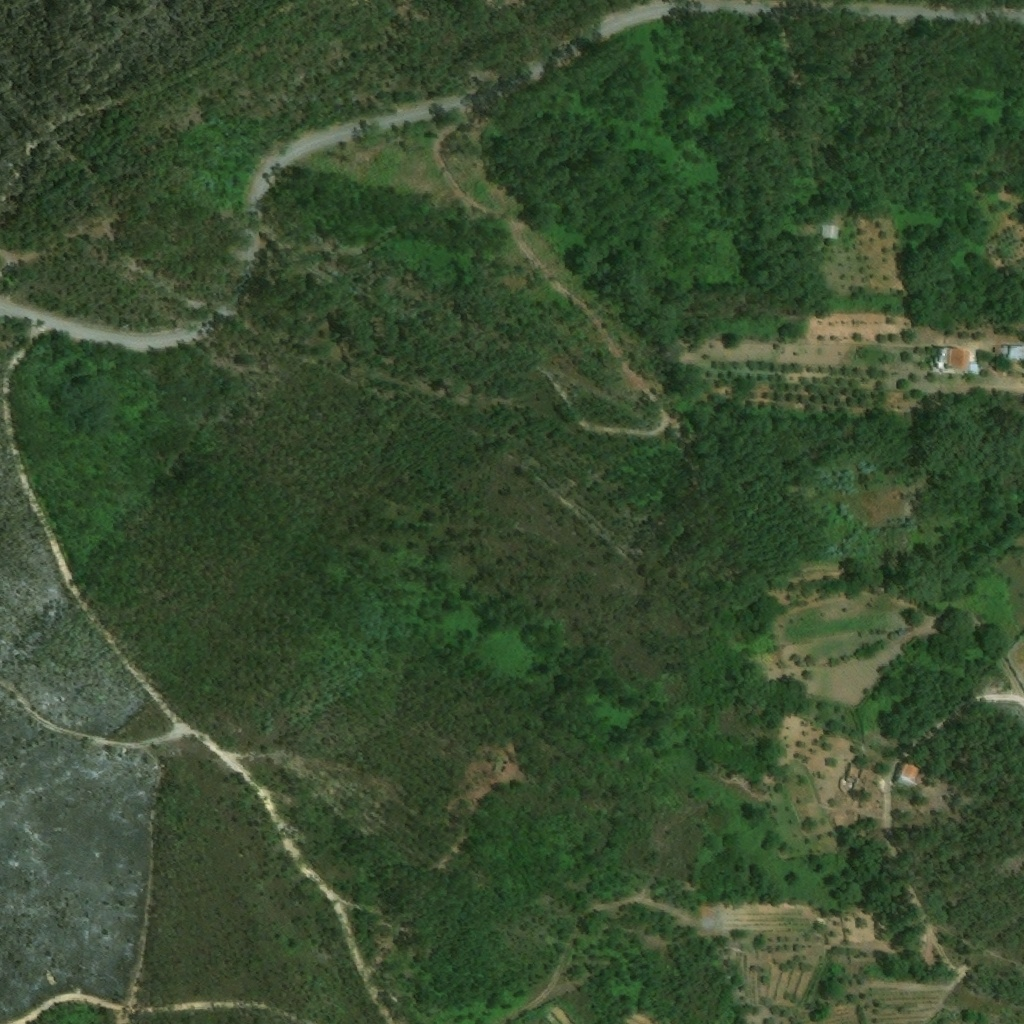0 no-damage: (933, 346, 971, 369), (895, 762, 921, 788), (1001, 344, 1023, 360), (820, 224, 840, 240), (967, 361, 980, 374), (895, 628, 908, 637)
